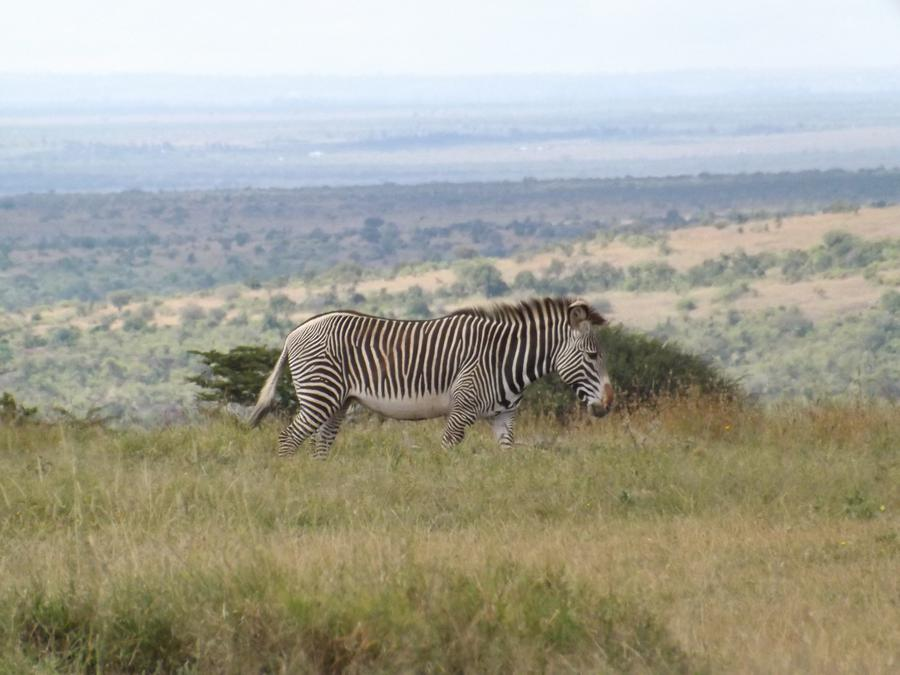zebra_grevys: (282, 318, 511, 408)
